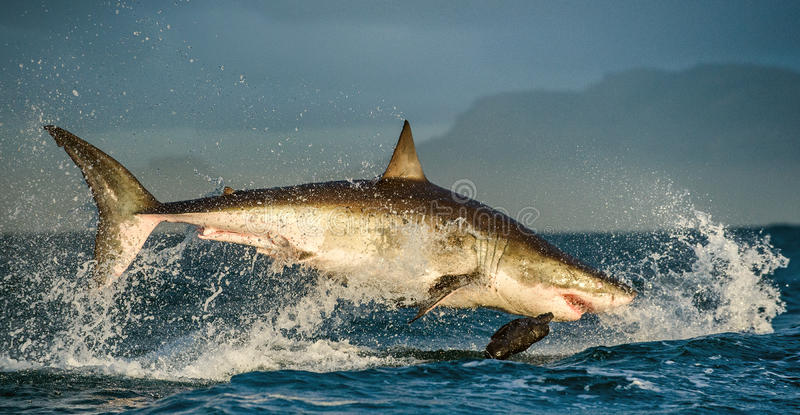shark: (41, 103, 657, 367)
